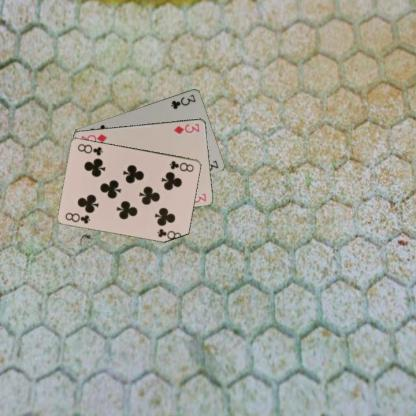3c: (168, 92, 197, 110)
3d: (172, 121, 200, 135)
8c: (63, 210, 92, 224), (167, 158, 195, 172)
